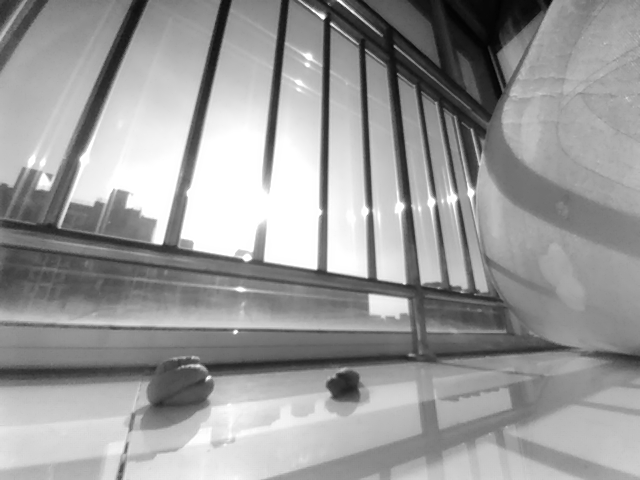pet feces: (146, 355, 217, 408), (324, 365, 361, 398)
